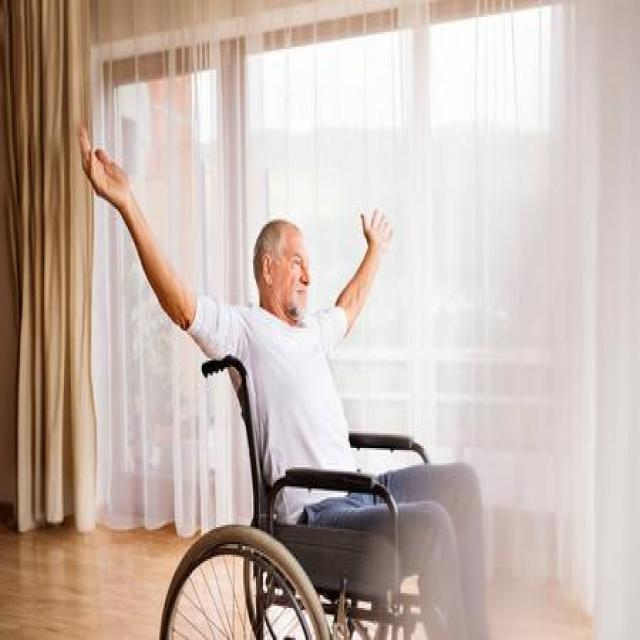wheelchairs: (140, 333, 480, 640)
